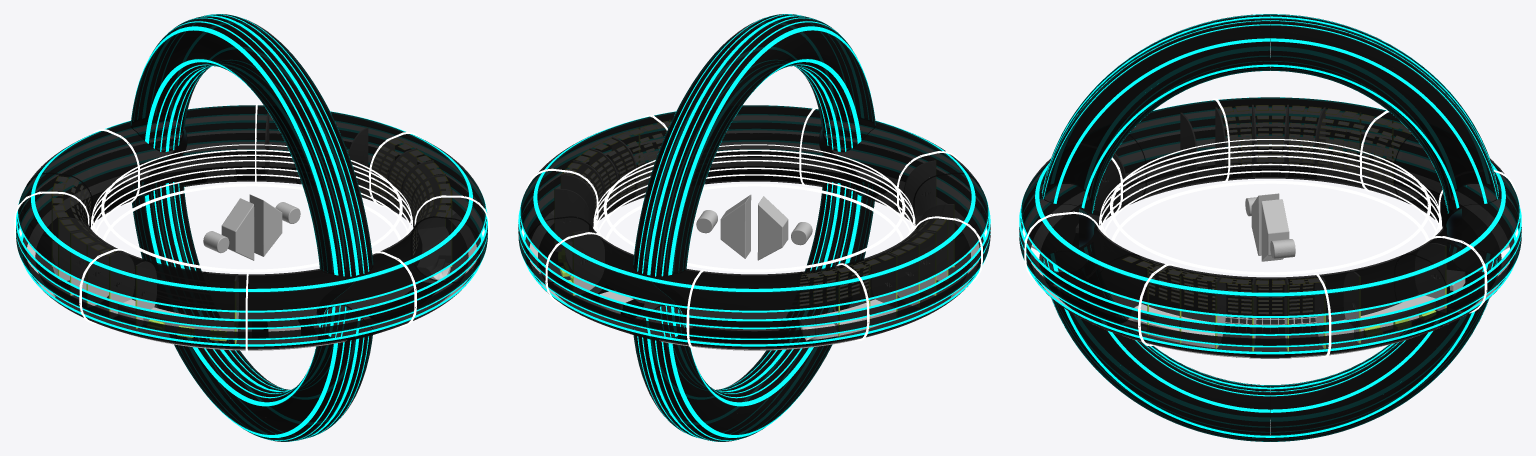
3 views of the same model, side by side, from view 1: azimuth 30°, elevation 25°; view 2: azimuth 150°, elevation 25°; view 3: azimuth 270°, elevation 25° (orthographic). The views are drawn at different scales.
Parts seen in each view (by area): view 1: Group, innerhoop, Curve.011_Curve.001, rotated handcuffs, Merged Objects; view 2: Group, innerhoop, Curve.011_Curve.001, Merged Objects, rotated handcuffs, Merged Objects 1; view 3: Group, innerhoop, Merged Objects, Curve.011_Curve.001, rotated handcuffs, Merged Objects 1.
Part boxes in pixels (left/top/right/bottom): Group: left=16, top=14, right=487, bottom=441; innerhoop: left=91, top=144, right=412, bottom=272; Curve.011_Curve.001: left=203, top=194, right=300, bottom=260; rotated handcuffs: left=14, top=103, right=489, bottom=352; Merged Objects: left=27, top=191, right=476, bottom=350; Group: left=518, top=14, right=990, bottom=441; innerhoop: left=593, top=144, right=915, bottom=272; Curve.011_Curve.001: left=696, top=194, right=812, bottom=260; Merged Objects: left=529, top=177, right=979, bottom=350; rotated handcuffs: left=526, top=107, right=982, bottom=348; Merged Objects 1: left=598, top=289, right=789, bottom=343; Group: left=1019, top=14, right=1521, bottom=441; innerhoop: left=1099, top=139, right=1441, bottom=275; Merged Objects: left=1031, top=244, right=1509, bottom=357; Curve.011_Curve.001: left=1245, top=193, right=1295, bottom=261; rotated handcuffs: left=1024, top=98, right=1516, bottom=357; Merged Objects 1: left=1060, top=272, right=1467, bottom=315.
Bounding box in the file's own units: 54.73 × 50.46 × 54.73.
Materials: 9 (3 with a texture image).
